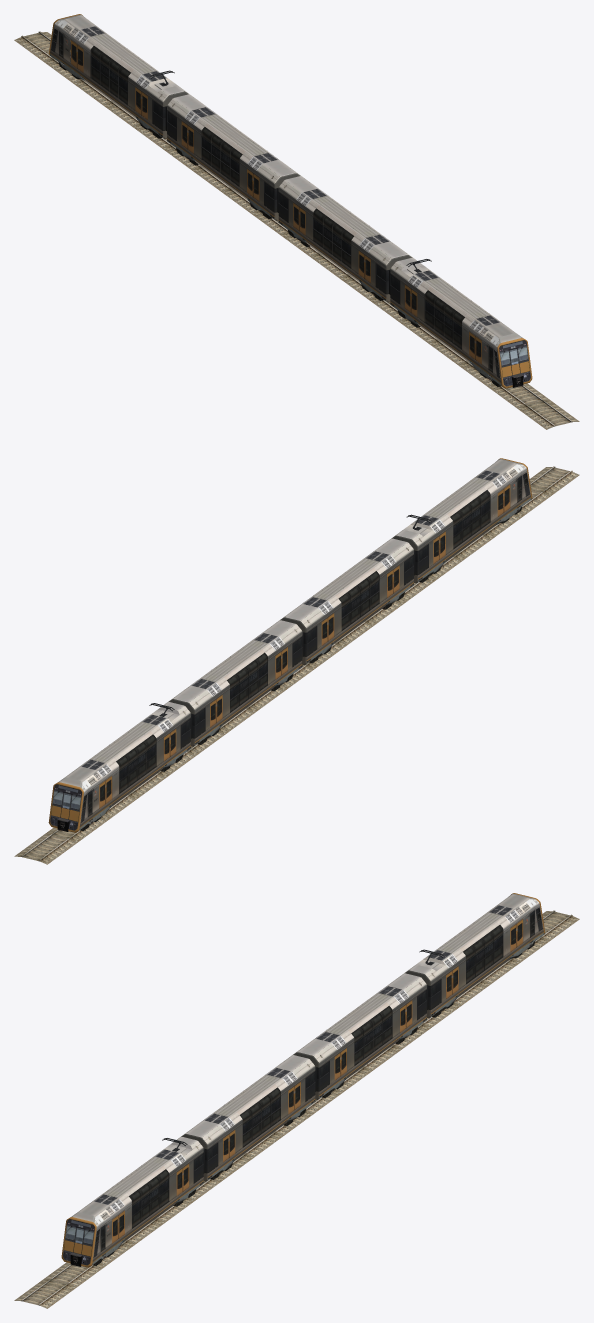
The model's file is tangara-sydney-trains-t-set-07d7a6.glb.
3 renders of one model, top to bottom at view 1: azimuth 30°, elevation 25°; view 2: azimuth 150°, elevation 25°; view 3: azimuth 330°, elevation 25°, orthographic.
Visible parts, largest first — view 1: PropMesh; view 2: PropMesh; view 3: PropMesh.
Part boxes in pixels (x1,y1,x2,y2): PropMesh: [14, 14, 579, 429]; PropMesh: [14, 458, 579, 864]; PropMesh: [14, 893, 579, 1308].
Size of the model in its own units: 0.0363 by 0.061 by 1.
Materials: 8 (8 with a texture image).
